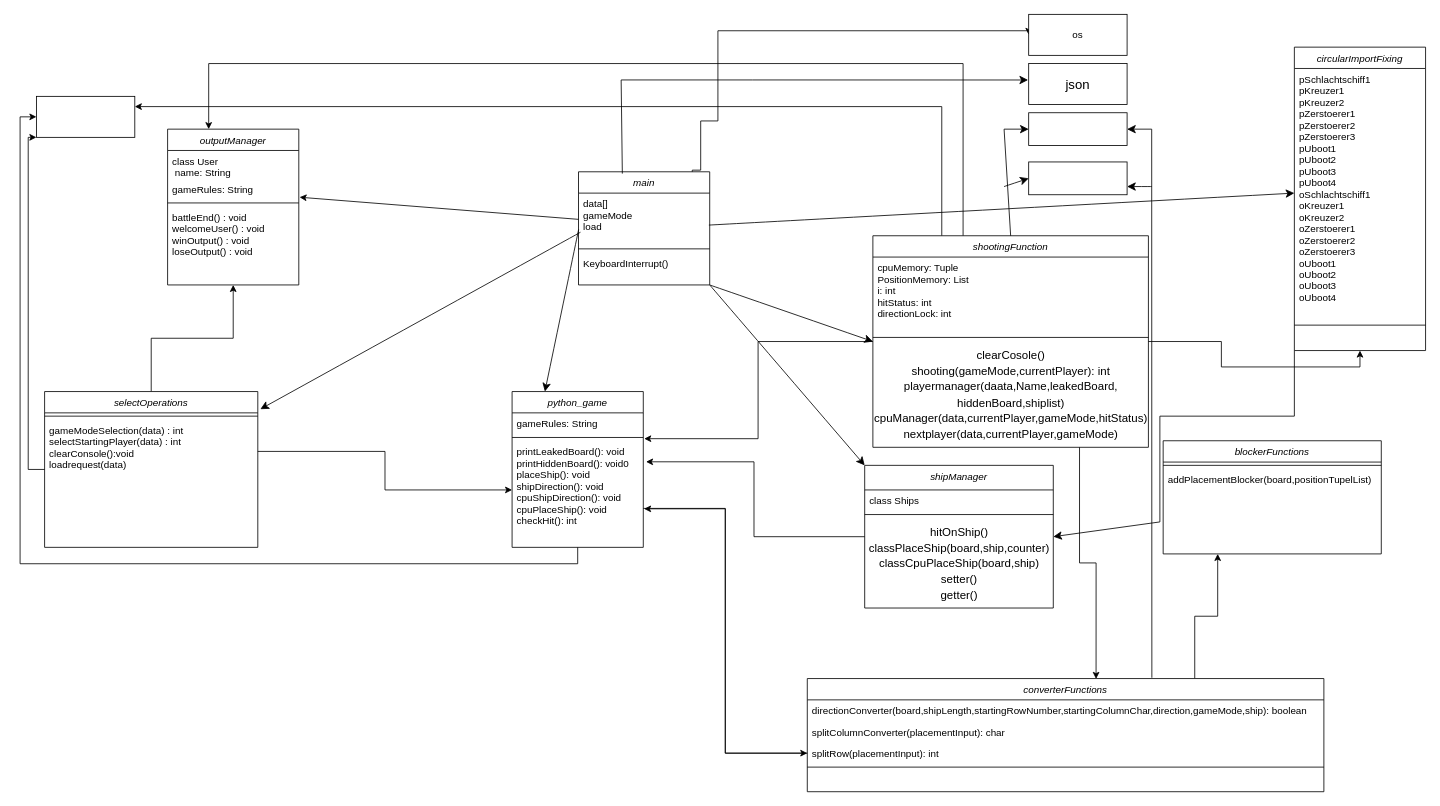
Image size: 1440x806. Some labels were removed from this diagram. The centre of each missing label's shape, as x and y in pixels:
"colorama" belongs at point (1077, 178).
"random" belongs at point (85, 116).
"termcolor" belongs at point (1077, 129).
